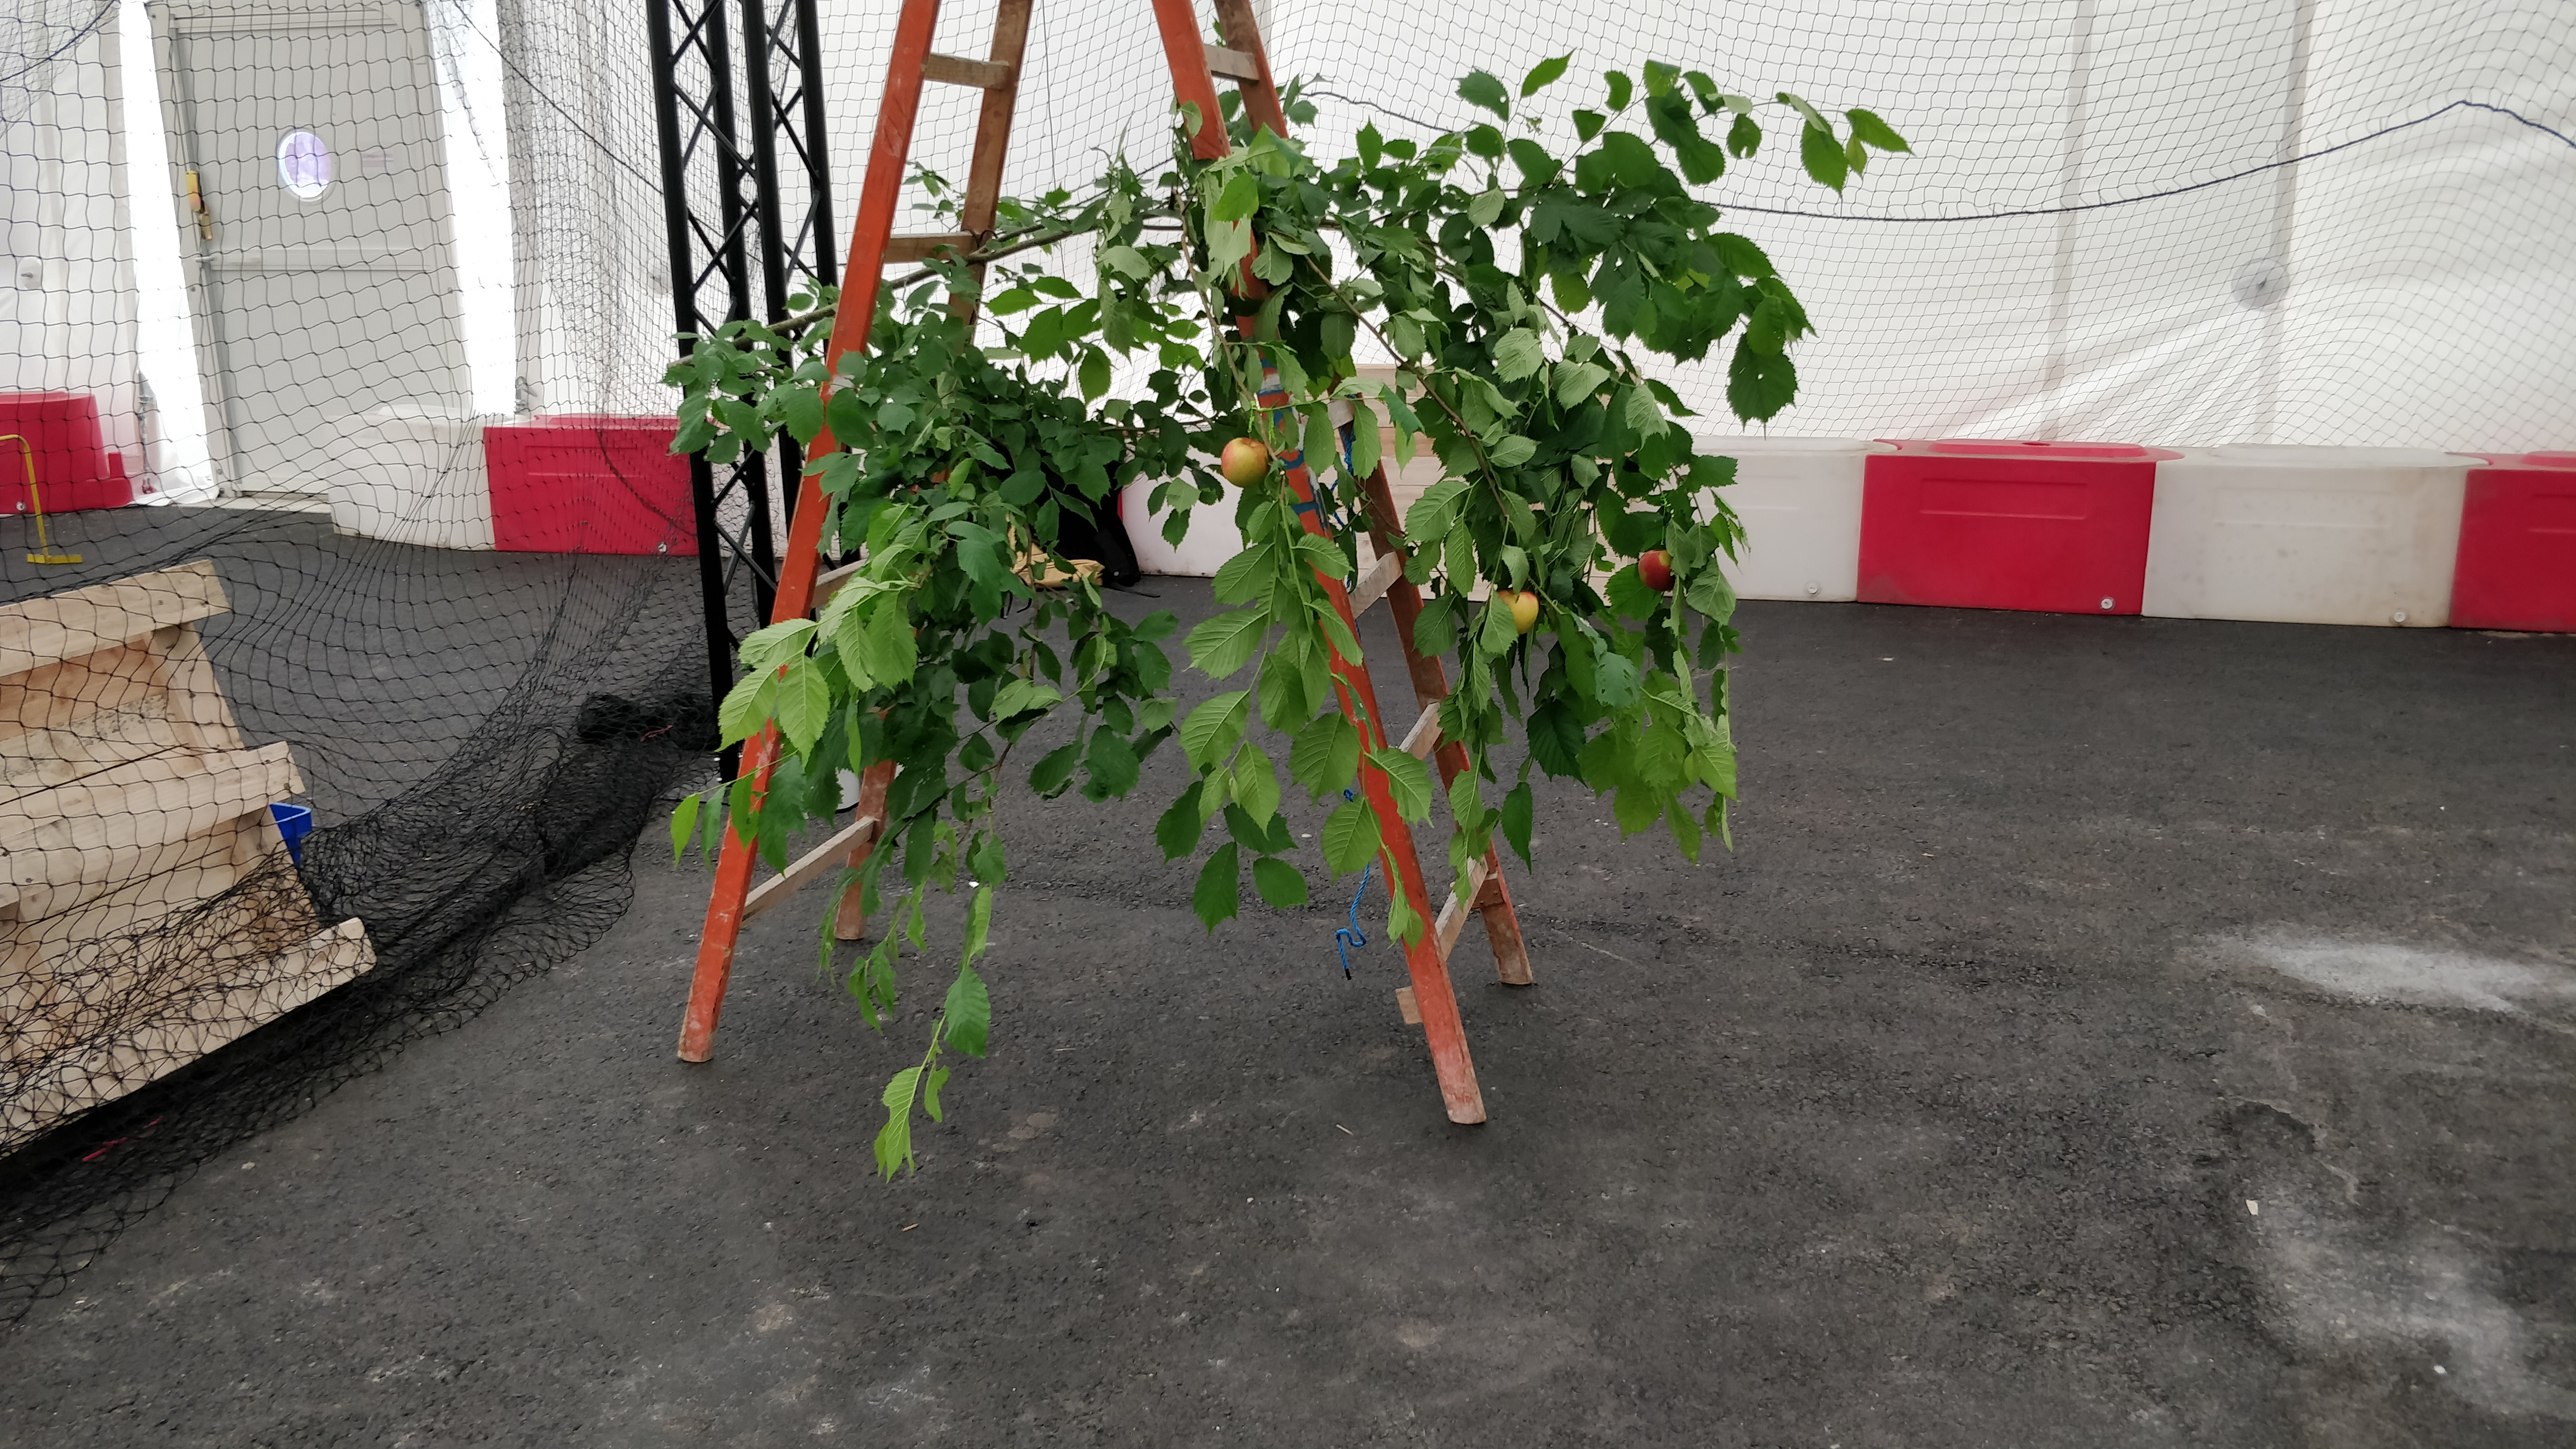apple: (1221, 439, 1269, 487), (1493, 591, 1537, 635), (1638, 550, 1677, 591)
